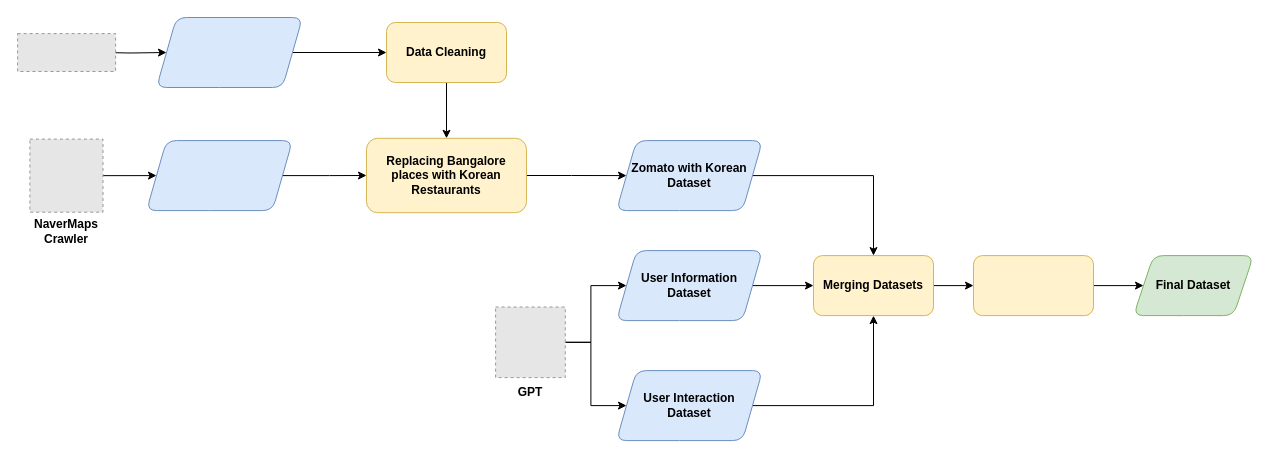
Some shapes in this 1271 by 459 pixel diagram are drawn without their labels. Grey dashed boxes stand in for pictures. Each missing label, with the box of its shape:
Korean Restaurants Dataset: (146, 140, 292, 211)
Preprocessing: (972, 255, 1094, 316)
Zomato Bangalore Dataset: (156, 16, 302, 88)
